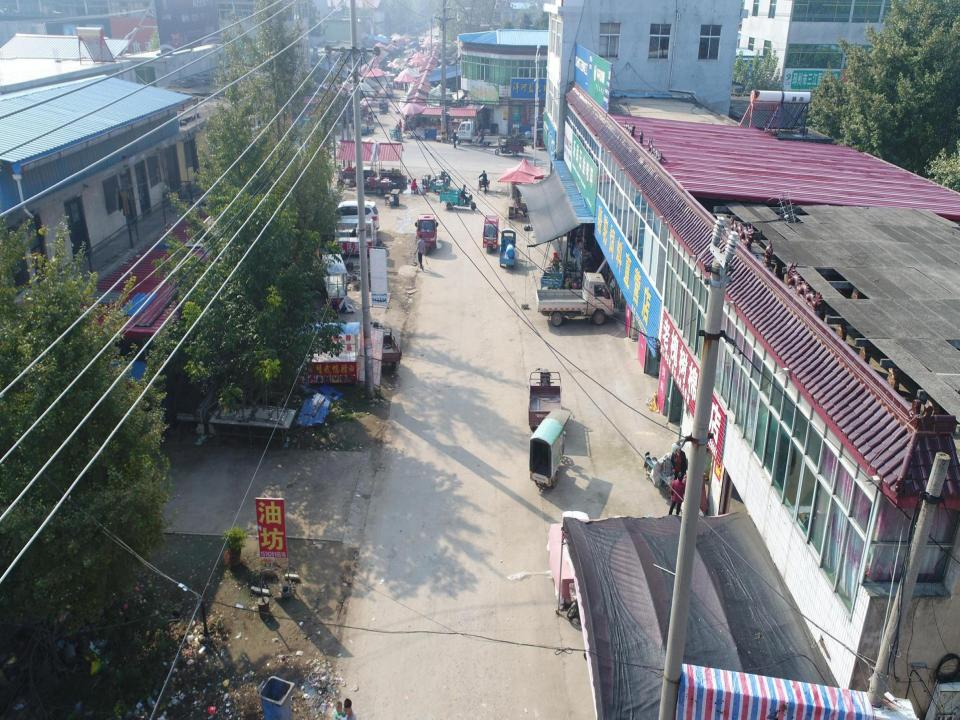car: (330, 200, 379, 232)
truck: (536, 273, 614, 326), (456, 121, 491, 144)
